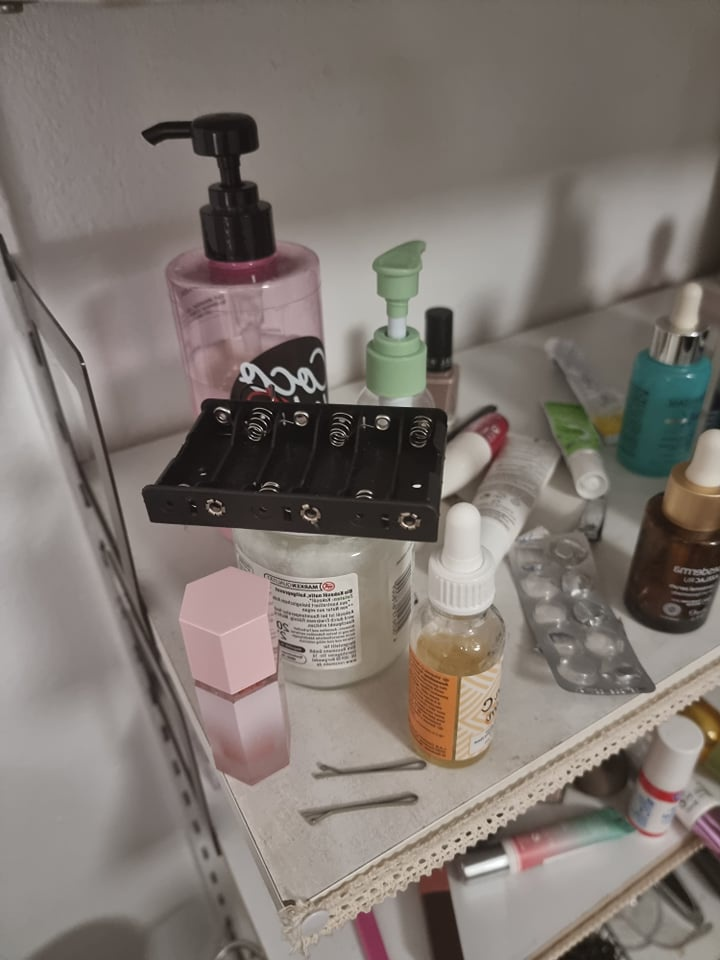BATTERY BOX: (141, 395, 451, 544)
